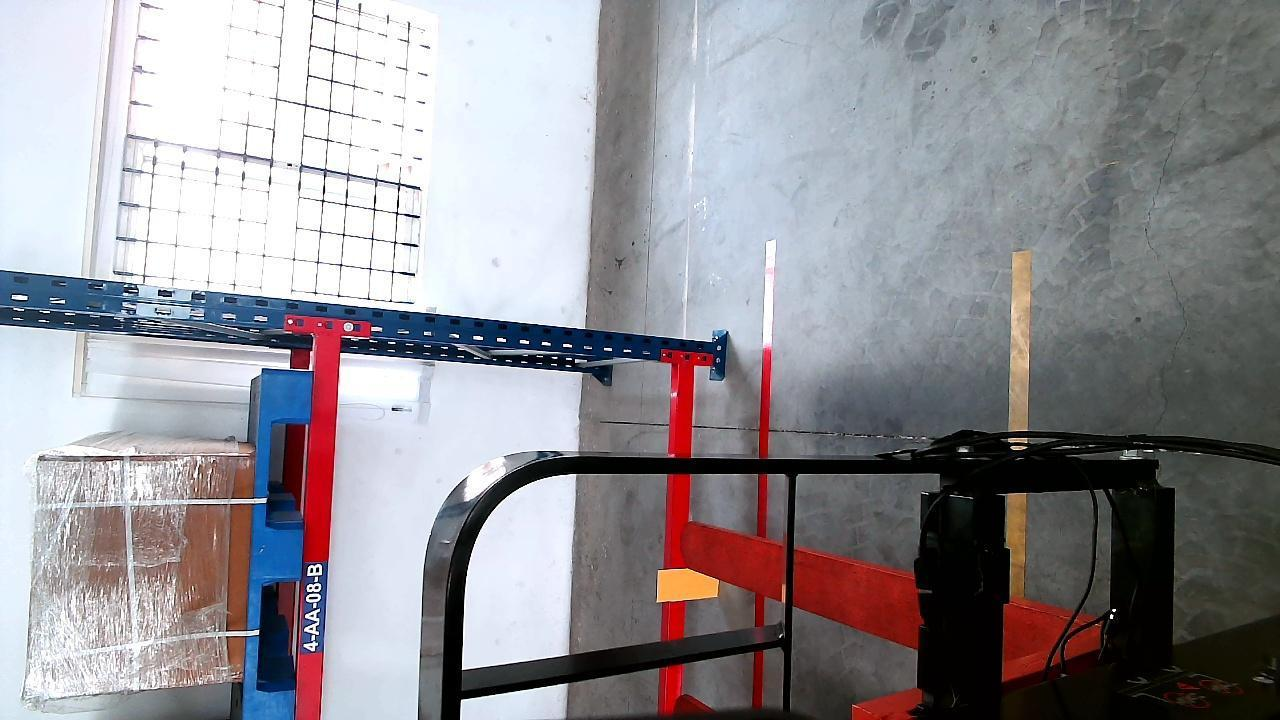h_rack: (298, 336, 344, 720), (664, 359, 695, 661)
orange_strip: (659, 567, 721, 601)
red_line: (751, 235, 774, 716)
small_pallet: (243, 364, 312, 720)
yellow_line: (1008, 246, 1029, 604)
